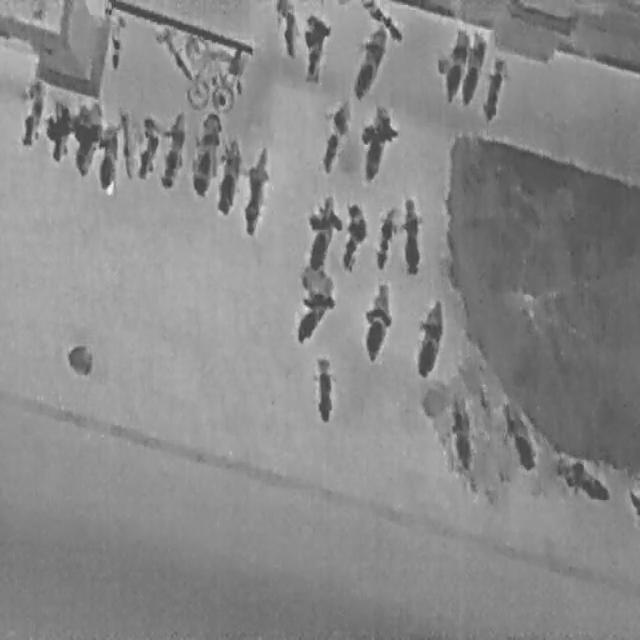Bicycle: (349, 96, 404, 188), (295, 185, 350, 277), (283, 272, 340, 352), (233, 139, 278, 240), (547, 445, 615, 511), (344, 18, 394, 104), (182, 108, 227, 198), (496, 392, 541, 477), (149, 105, 193, 191), (430, 20, 473, 105), (313, 94, 356, 178), (64, 95, 106, 179), (357, 277, 397, 365), (208, 132, 248, 218), (181, 57, 240, 115), (411, 294, 447, 380), (37, 90, 78, 165), (454, 26, 490, 109), (335, 198, 371, 274), (90, 116, 124, 196), (297, 11, 332, 84), (475, 50, 509, 125), (369, 202, 400, 272), (448, 391, 475, 469), (113, 106, 140, 182), (19, 76, 47, 149), (133, 114, 162, 184), (399, 194, 425, 272), (312, 352, 335, 422), (276, 0, 297, 58), (109, 22, 121, 70), (626, 486, 638, 512)
